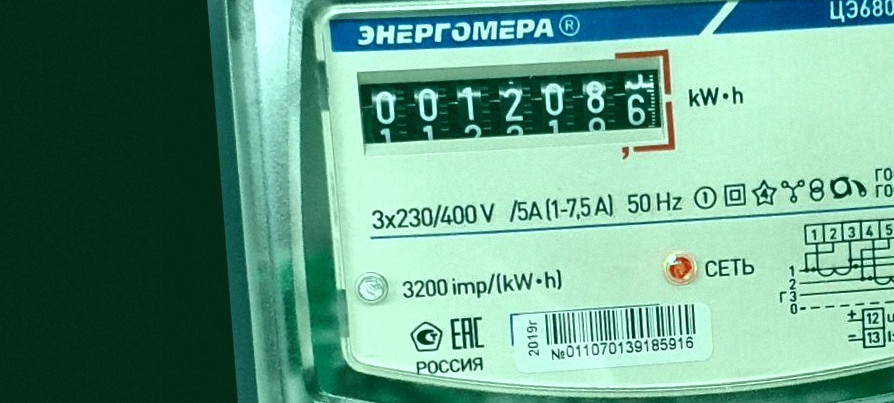0: (370, 85, 399, 126), (414, 84, 441, 123), (539, 78, 566, 116)
1: (456, 82, 480, 123)
2: (498, 83, 527, 123)
6: (622, 89, 648, 127)
8: (580, 76, 608, 115)
screen: (348, 40, 685, 178)
